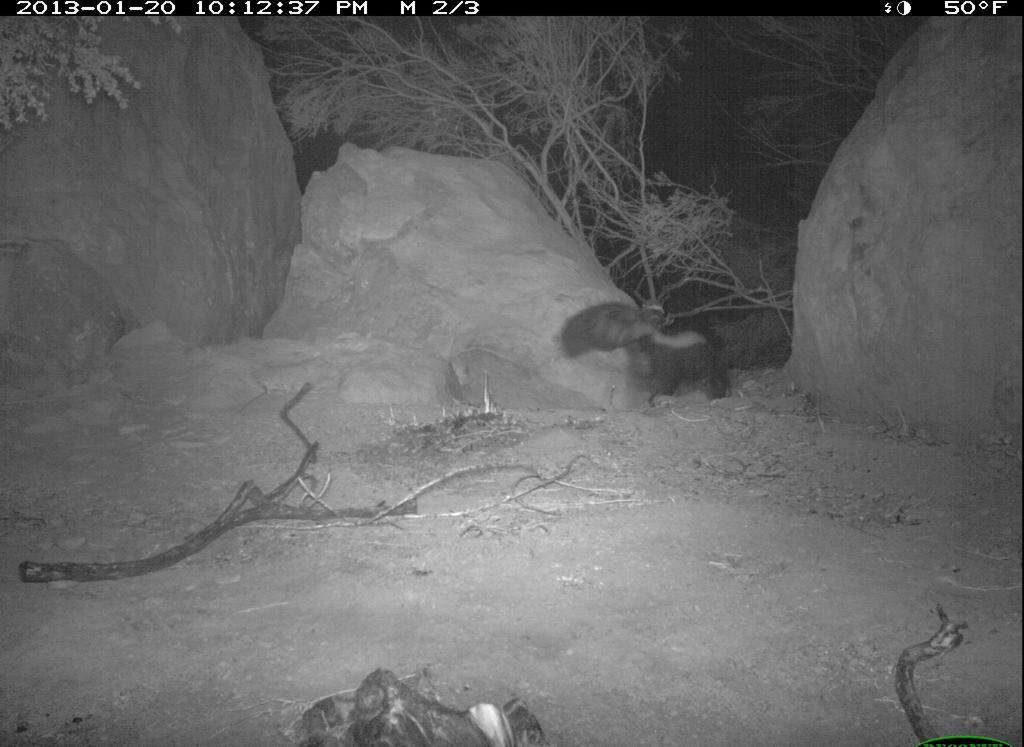skunk: (550, 257, 784, 425)
